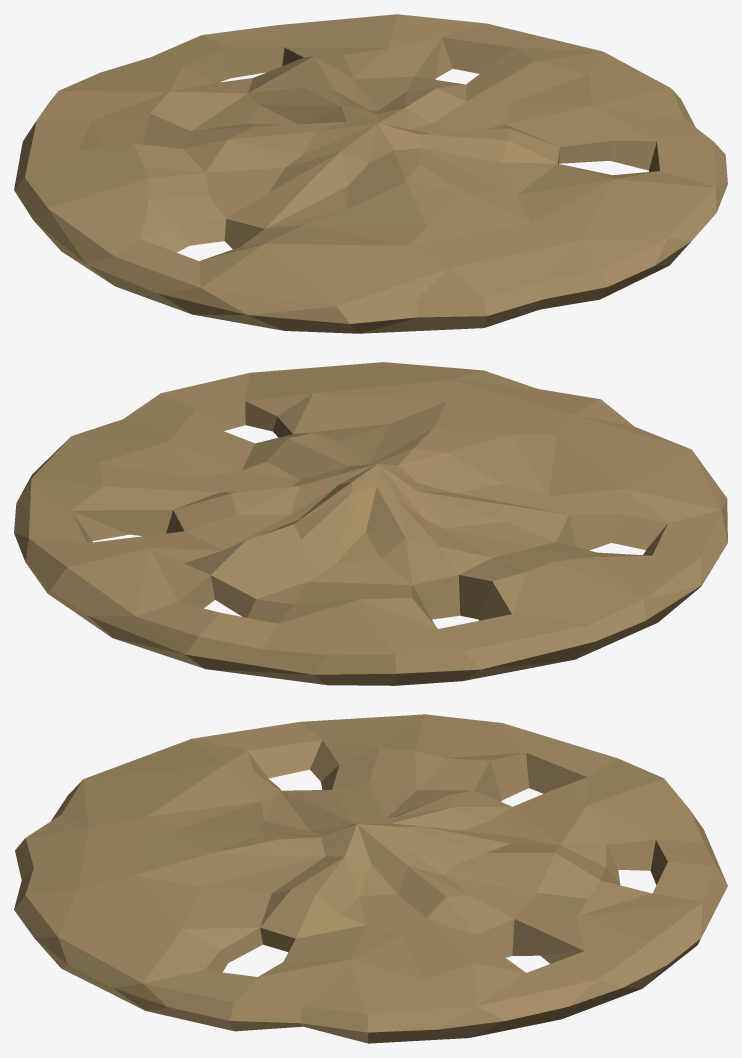
File: Shells3.glb
The picture shows the model from 3 angles, top to bottom: view 1: azimuth 30°, elevation 25°; view 2: azimuth 150°, elevation 25°; view 3: azimuth 270°, elevation 25°; orthographic projection.
Visible parts, largest first — view 1: Shells3; view 2: Shells3; view 3: Shells3.
Boxes of the visible parts, <box> form: Shells3: <box>14,14,727,333</box>; Shells3: <box>14,362,727,685</box>; Shells3: <box>14,714,727,1043</box>.
Size of the model in its own units: 206 by 23.45 by 205.
